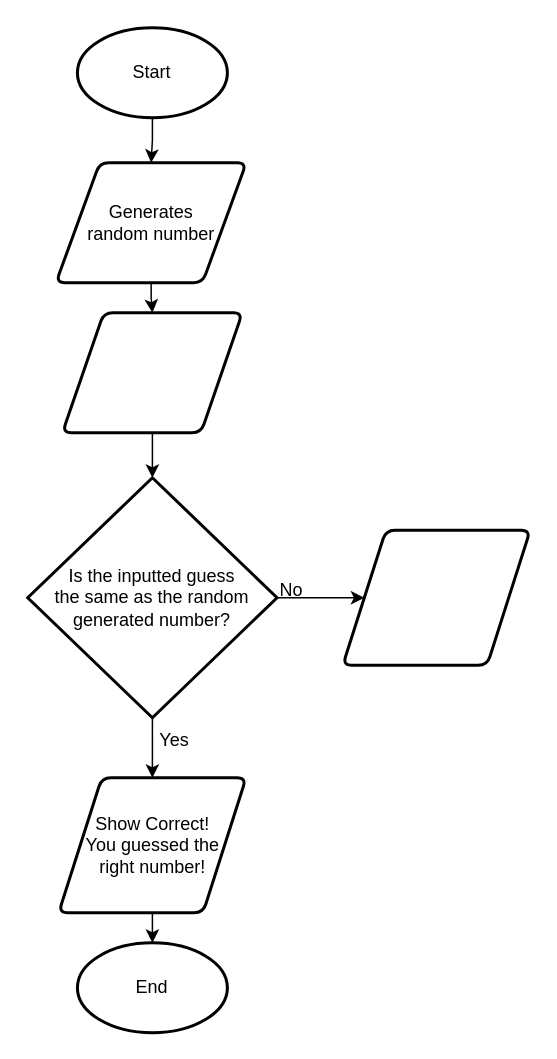
This 557x1059 diagram has some shape labels left out. Each missing label, with the centre of its shape:
Get Inputted guess: point (151, 372)
Show Incorrect! Try again?: point (435, 597)
